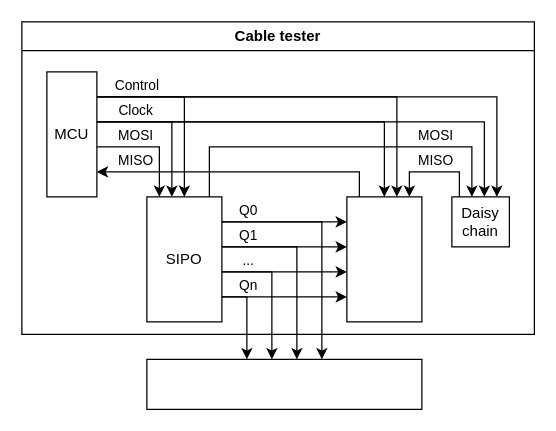
Image size: 556x431. Some labels were removed from this diagram. The shapes that lost their labels are listed below. From the top down, each one's centre as x and y in pixels, then its label:
At (x=384, y=259): "PISO".
At (x=284, y=383): "Cable".
